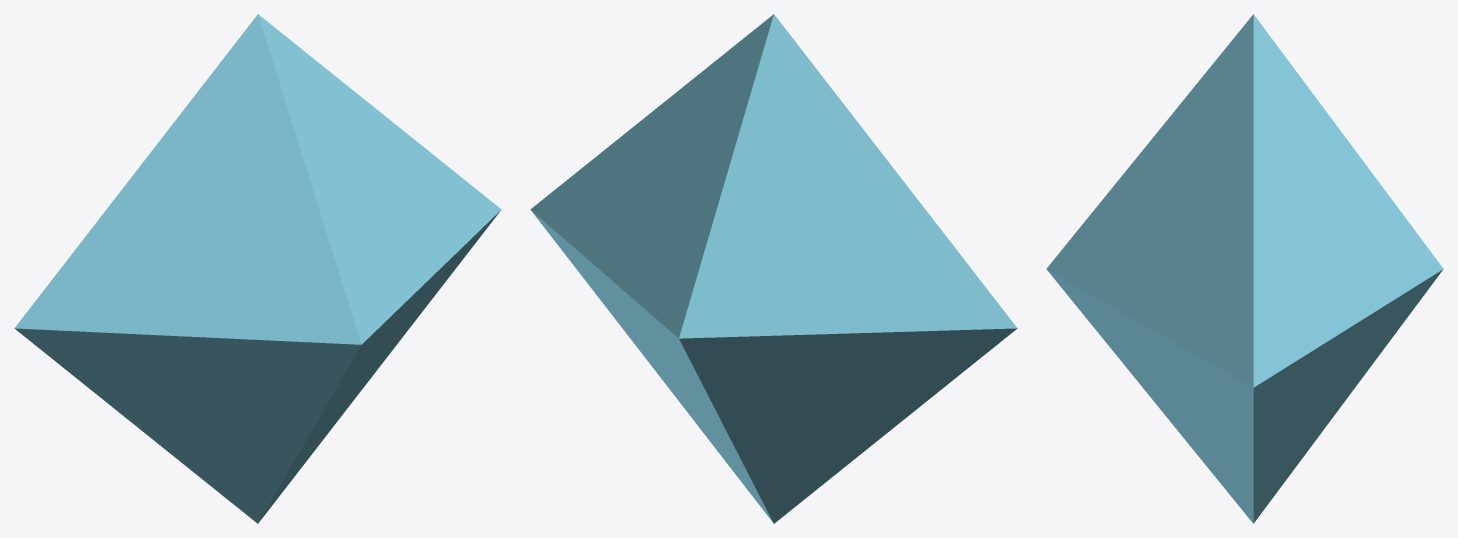
The model's file is star_diamond.fbx.
3 renders of one model, left to right at view 1: azimuth 30°, elevation 25°; view 2: azimuth 150°, elevation 25°; view 3: azimuth 270°, elevation 25°, orthographic.
Parts seen in each view (by area): view 1: Circle; view 2: Circle; view 3: Circle.
Boxes of the visible parts, bbox=[...] form: Circle: bbox=[14, 14, 501, 523]; Circle: bbox=[530, 14, 1017, 523]; Circle: bbox=[1046, 14, 1443, 523].
Bounding box in the file's own units: 200 × 200 × 141.
